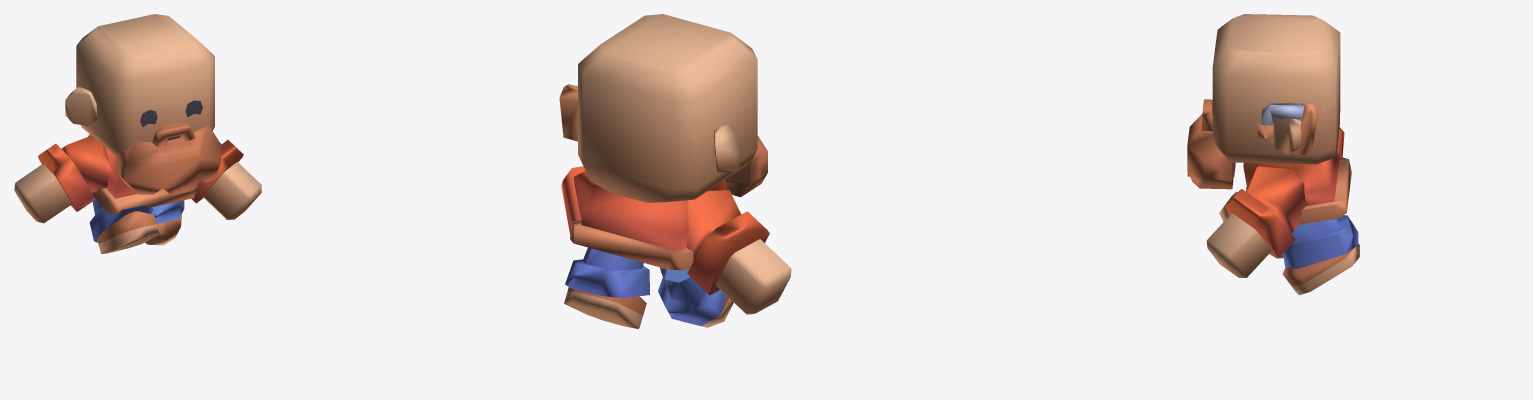
Rendered from rival_sprint_9.glb.
The picture shows the model from 3 angles, left to right: view 1: azimuth 30°, elevation 25°; view 2: azimuth 150°, elevation 25°; view 3: azimuth 270°, elevation 25°; orthographic projection. The views are drawn at different scales.
Parts seen in each view (by area): view 1: rival-sprint-9; view 2: rival-sprint-9; view 3: rival-sprint-9.
Part boxes in pixels (x1,y1,x2,y2): rival-sprint-9: [14, 14, 261, 253]; rival-sprint-9: [559, 14, 791, 328]; rival-sprint-9: [1187, 14, 1359, 295].
Size of the model in its own units: 1.2 by 0.7282 by 1.2.
1 material, 1 textured.
